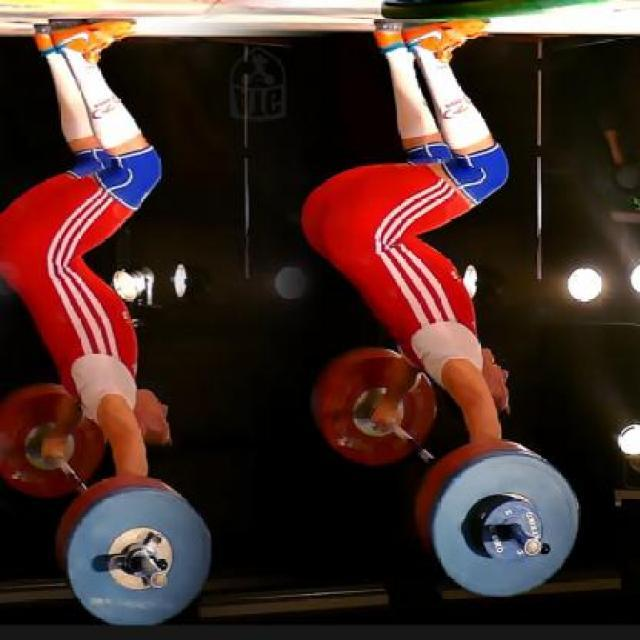Barbell: (146, 566, 174, 594), (520, 535, 543, 559)
